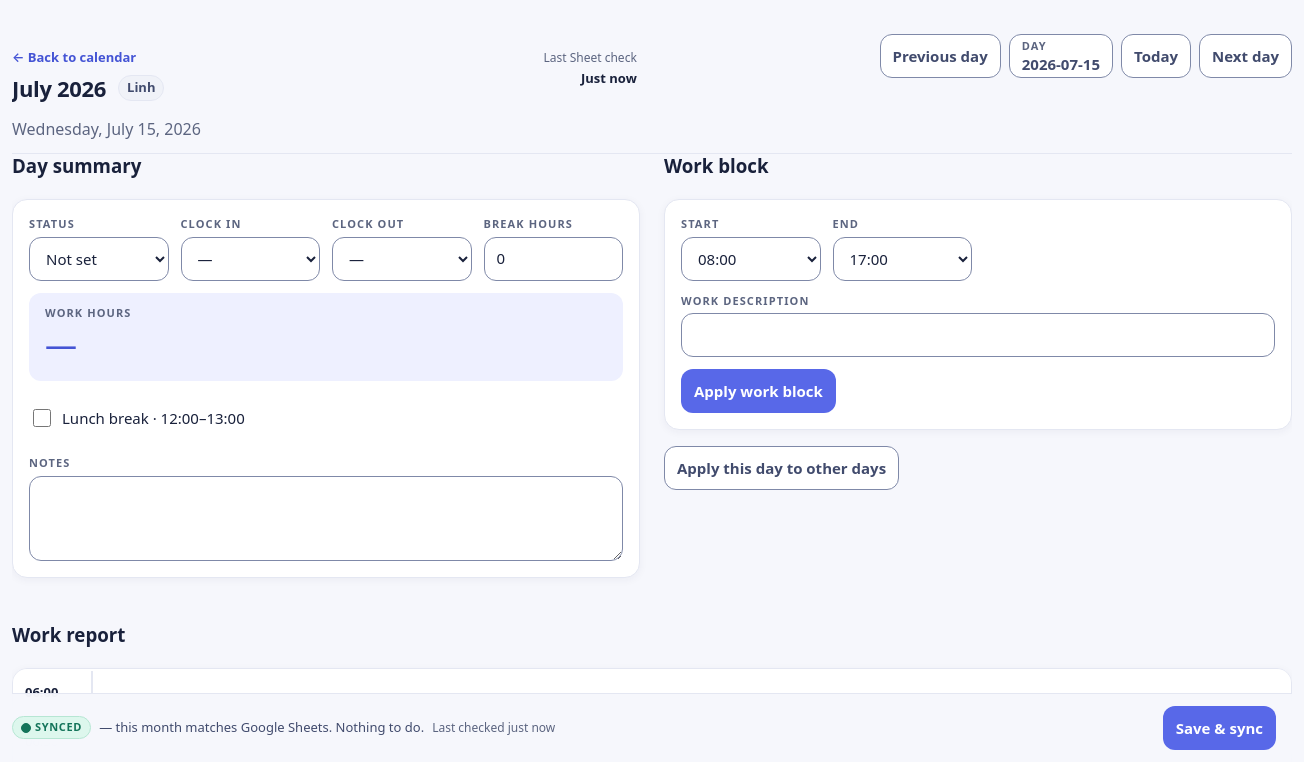
it: AttendanceEditor › skips the reserved lunch slots for a block that crosses them
The image size is (1304, 762).
expect the button "Save & sync" is shown: met, box [1163,706,1276,750]
Click the checkbox labelled "Lunch break · 12:00–13:00".
click(42, 418)  # box [33,396,51,440]
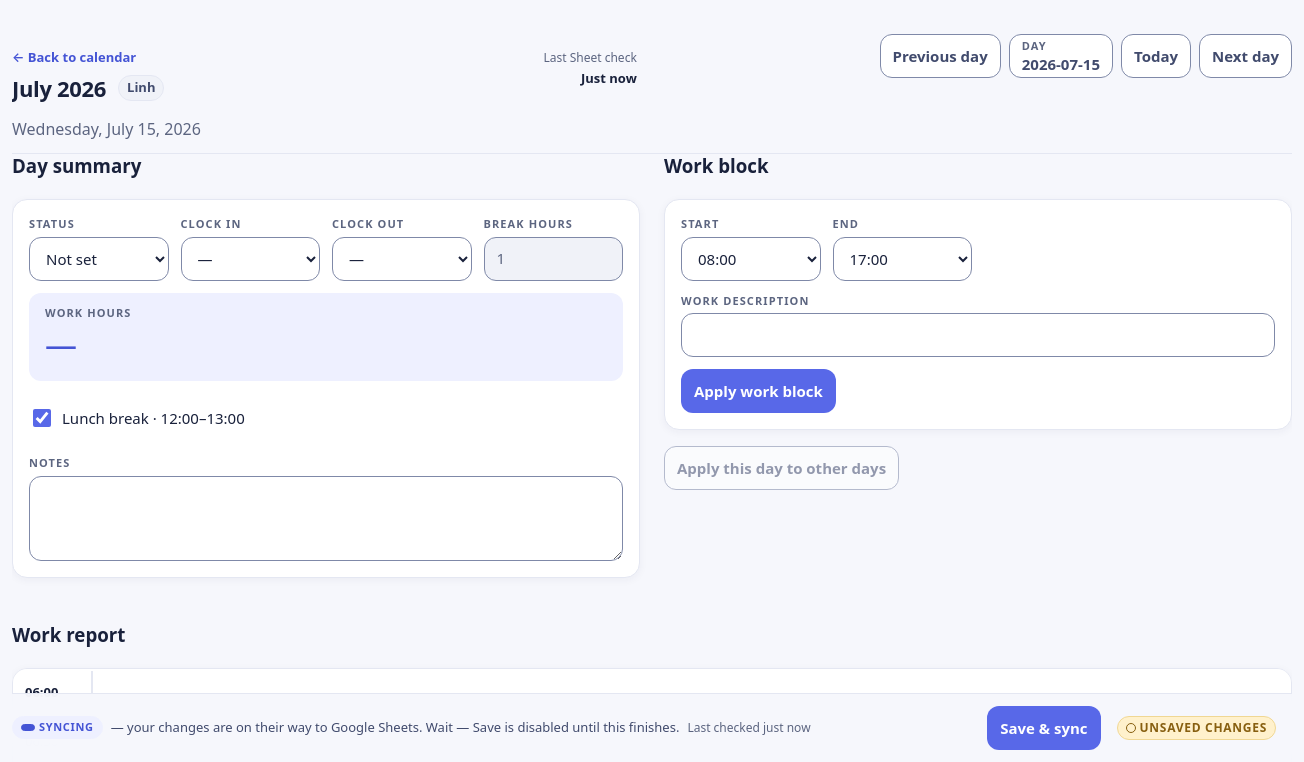
Select "11:30" in the dropdown labelled "Start" at (751, 258), box [681,236,820,280]
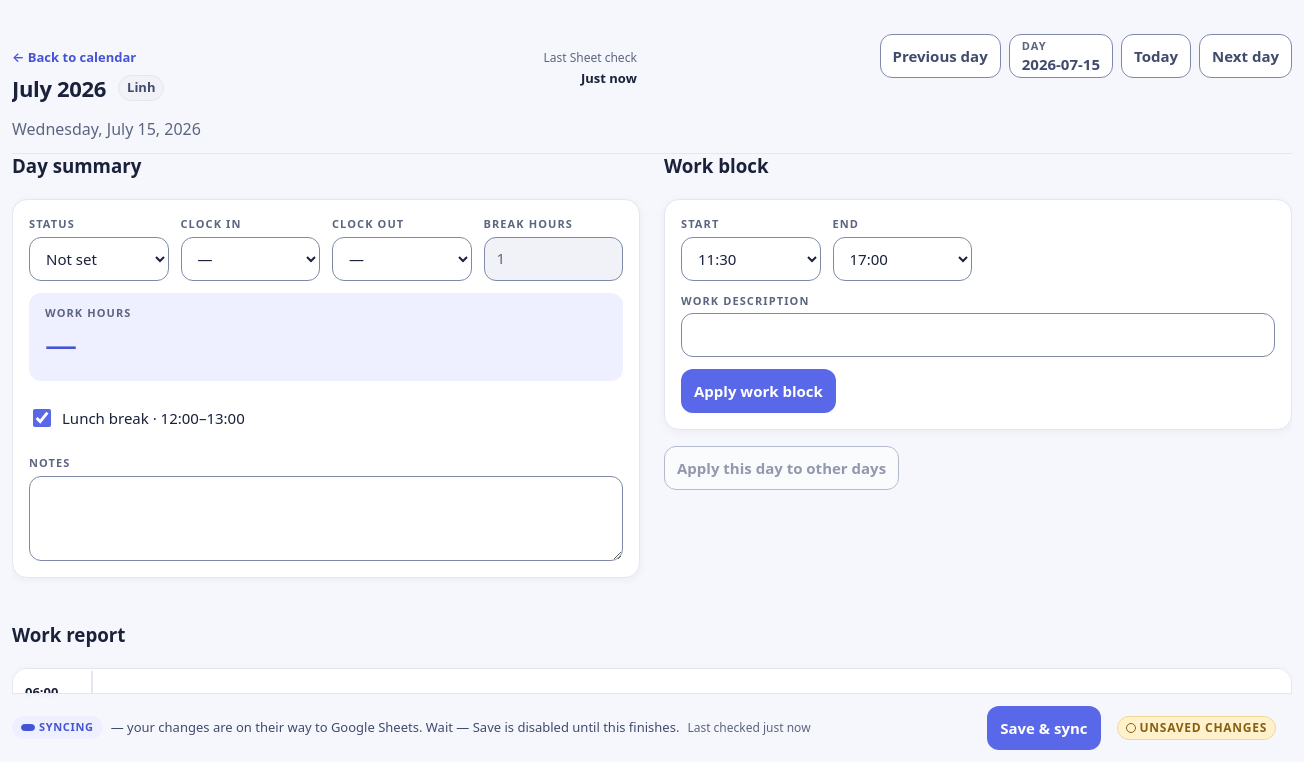
Select "13:00" in the dropdown labelled "End" at (902, 258), box [832,236,972,280]
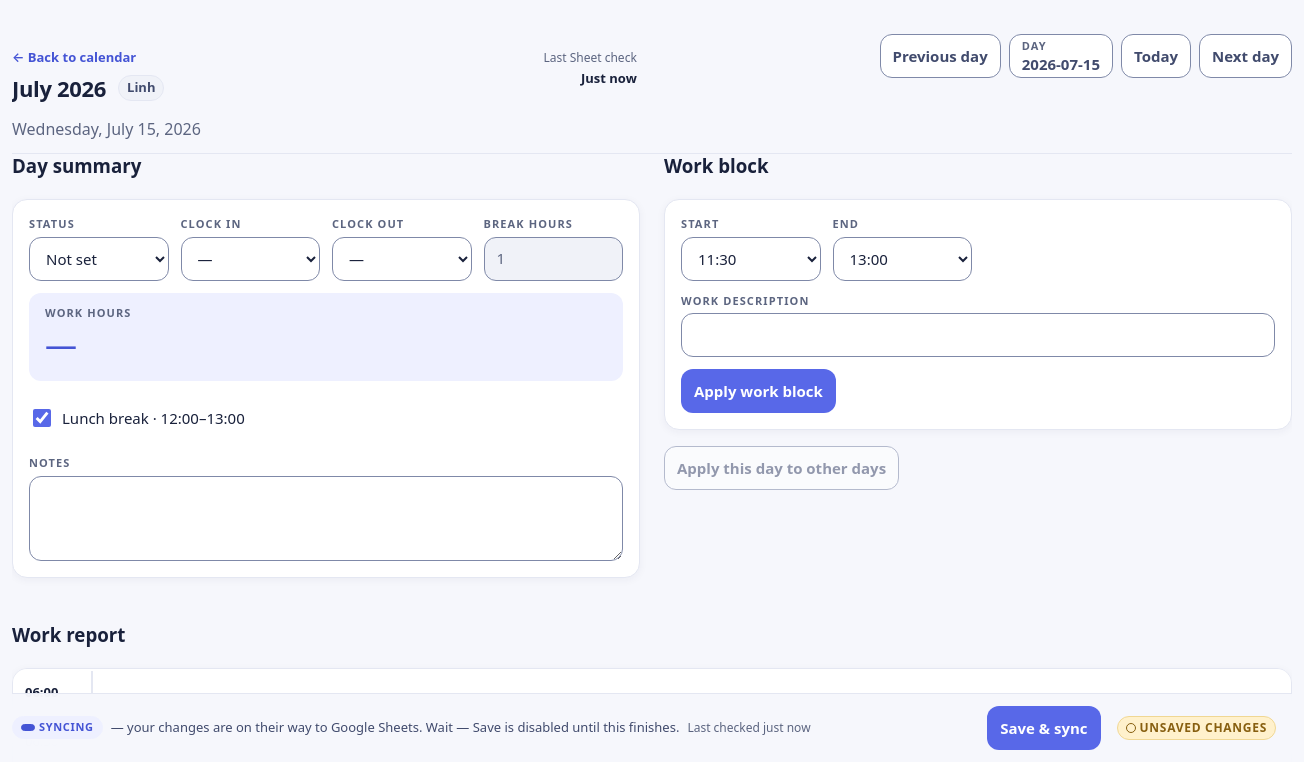
Type "Client report" into the field labelled "Work description".
click(978, 335); type("Client report")  # box [681,313,1275,357]
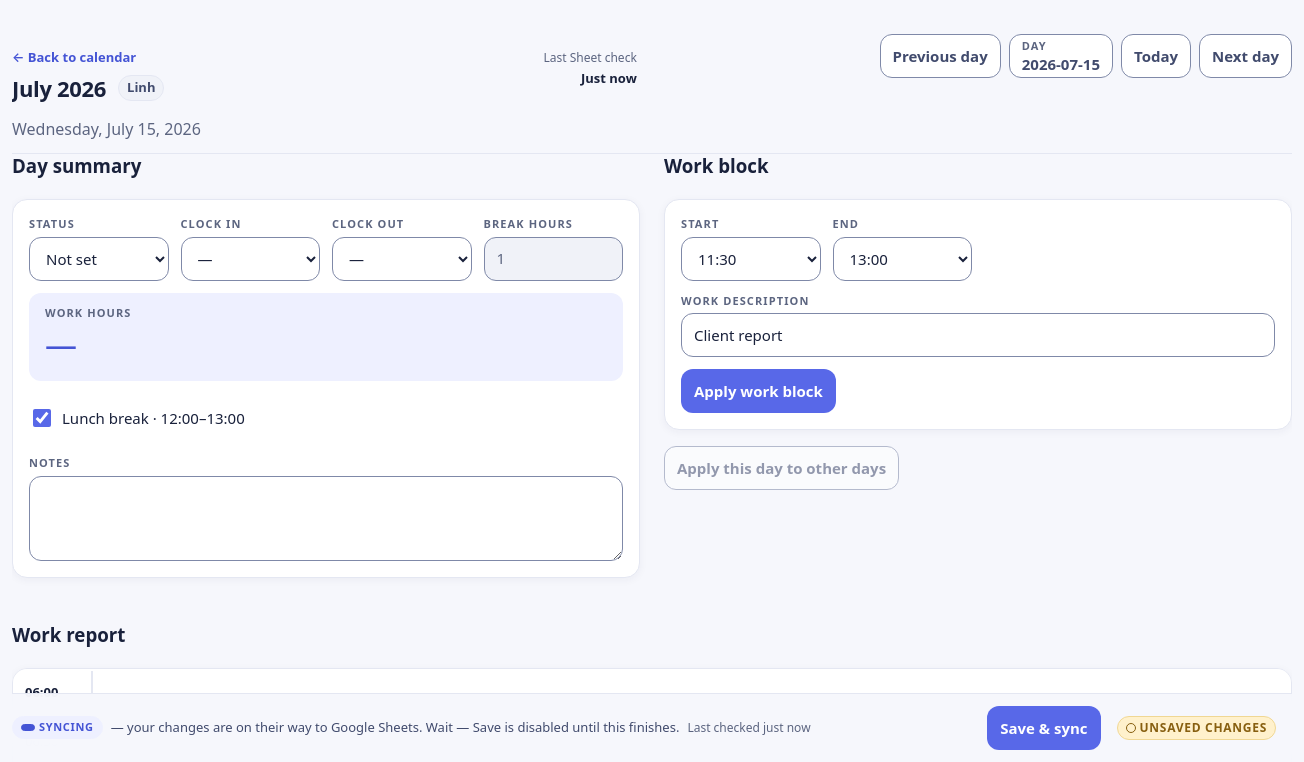
Click the button "Apply work block".
click(758, 391)  # box [681,369,836,413]
(page scrolled)
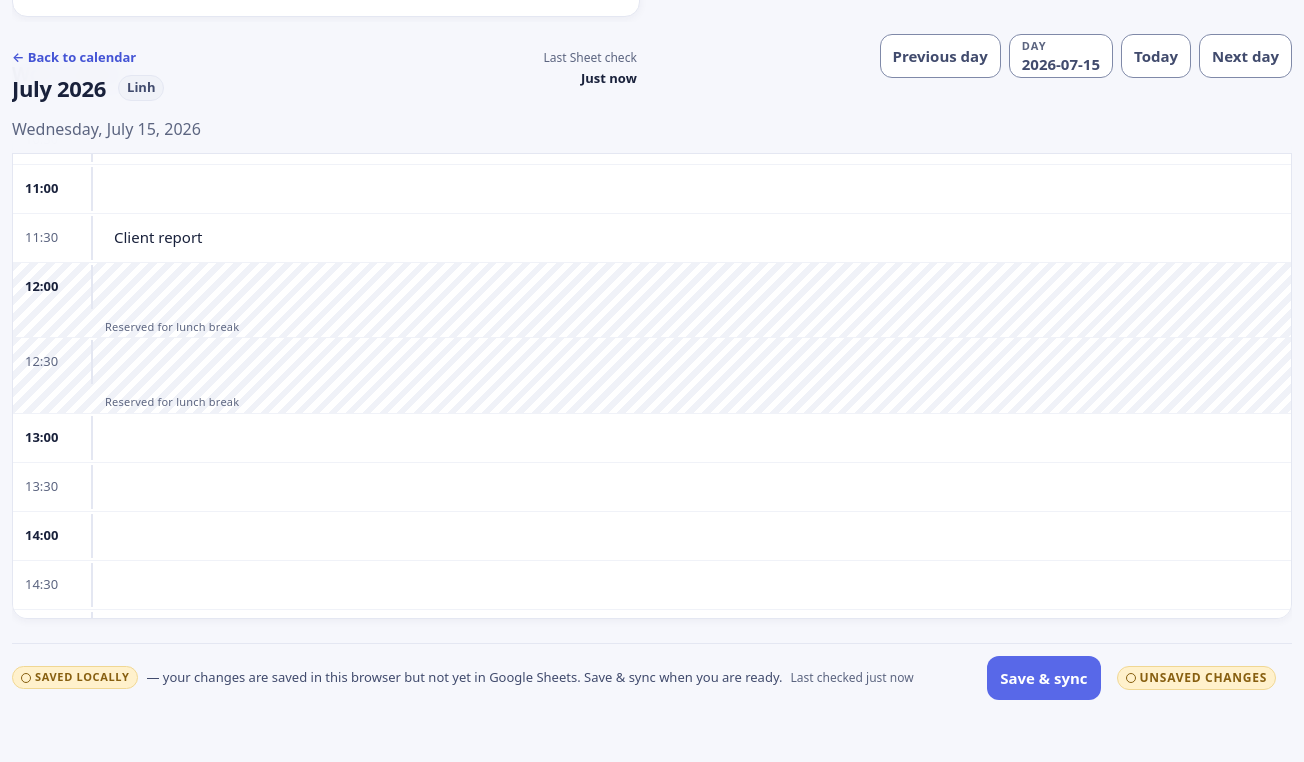
expect the field named "12:00 work" is empty: met, box [105,264,1279,308]
expect the field named "11:30 work" holds "Client report": met, box [105,216,1279,260]
